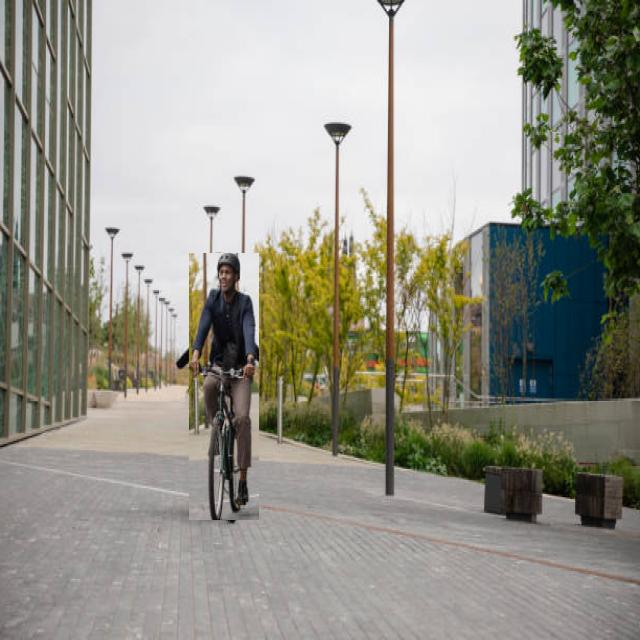bicycle: (189, 253, 259, 520)
